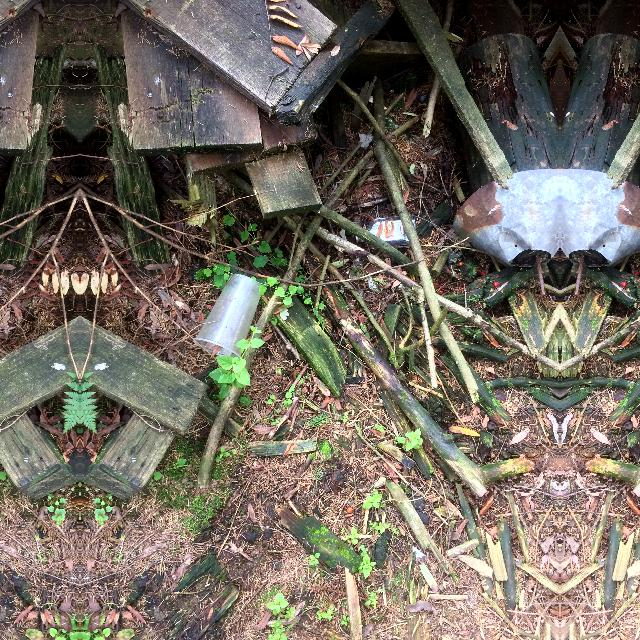Glass: (352, 211, 418, 253)
Plastic: (186, 262, 274, 368)
